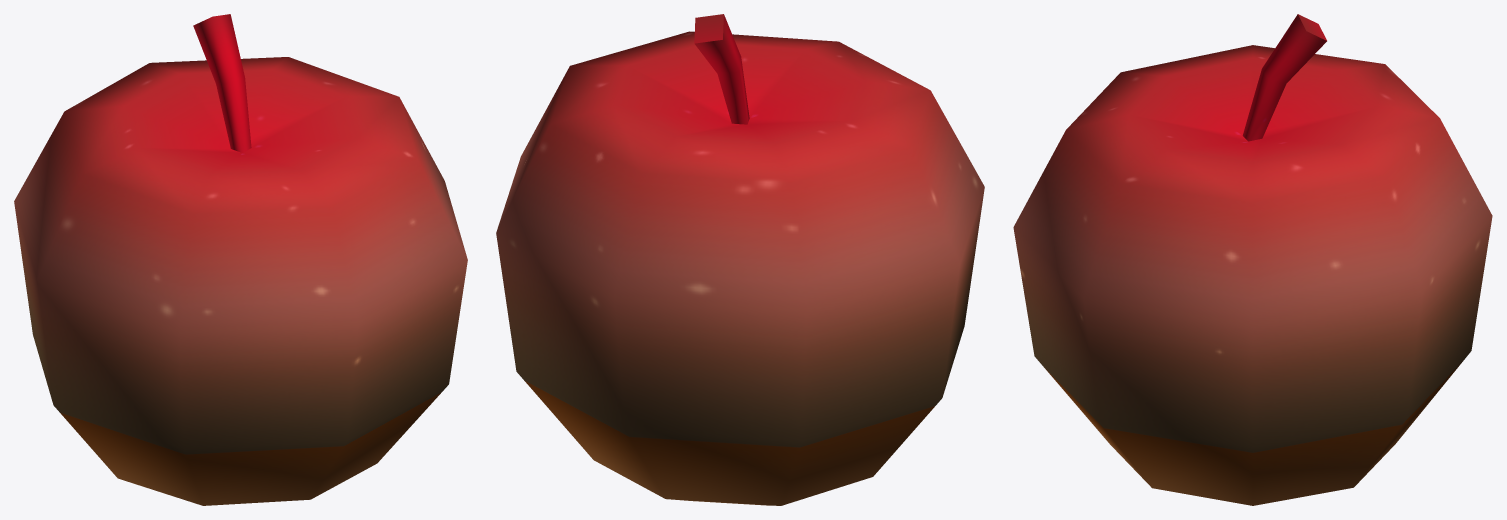
Rendered from apple.glb.
The picture shows the model from 3 angles, left to right: view 1: azimuth 30°, elevation 25°; view 2: azimuth 150°, elevation 25°; view 3: azimuth 270°, elevation 25°; orthographic projection. The views are drawn at different scales.
Visible parts, largest first — view 1: apple_mesh; view 2: apple_mesh; view 3: apple_mesh.
Part boxes in pixels (x1,y1,x2,y2): apple_mesh: (14, 14, 467, 505); apple_mesh: (496, 14, 984, 505); apple_mesh: (1013, 14, 1492, 505).
Size of the model in its own units: 0.4263 by 0.4368 by 0.4239.
